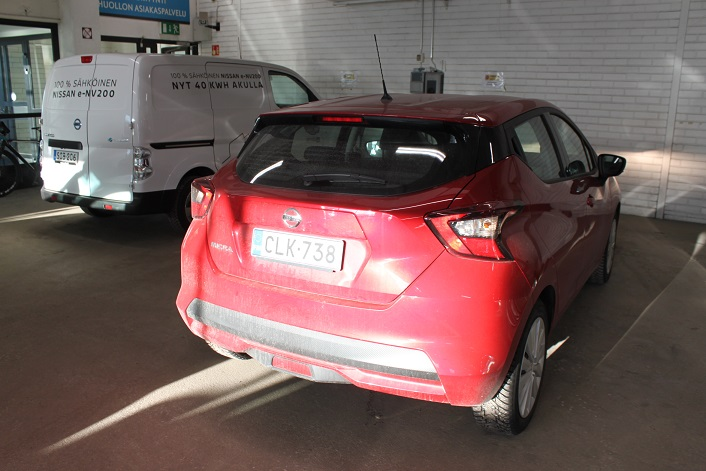license: (245, 223, 346, 282)
